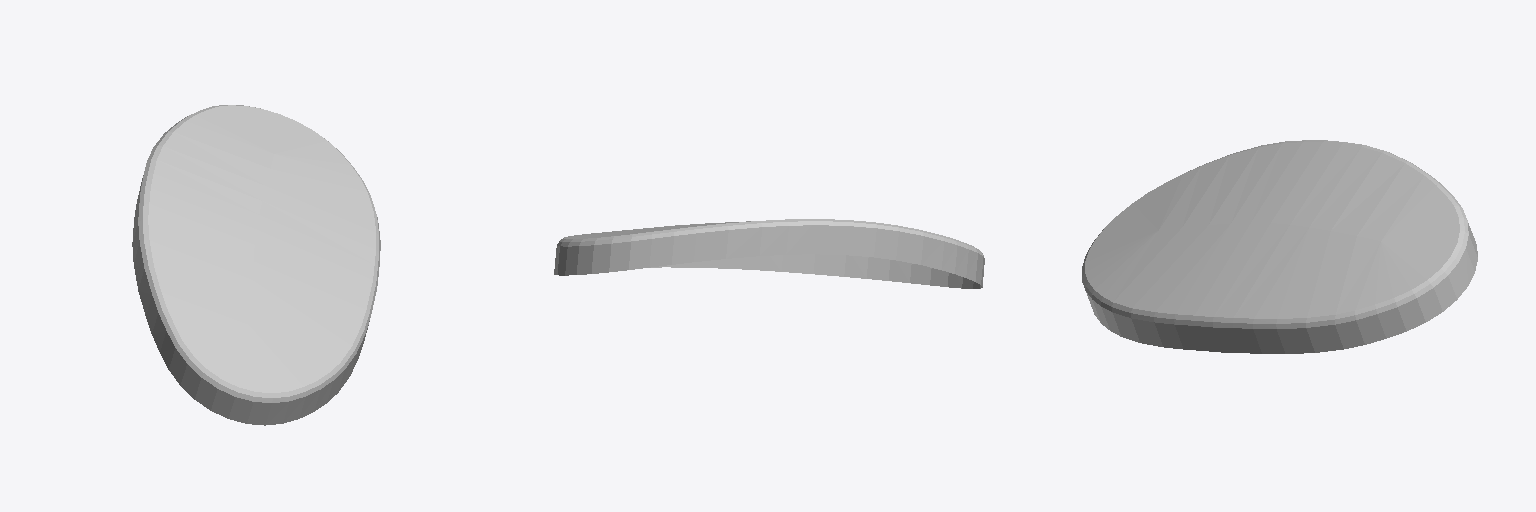
Rendered from vespa_odometer_glass.obj.
The picture shows the model from 3 angles: view 1: azimuth 30°, elevation 25°; view 2: azimuth 150°, elevation 25°; view 3: azimuth 270°, elevation 25°; orthographic projection.
Size of the model in its own units: 7.07 by 3.81 by 8.23.